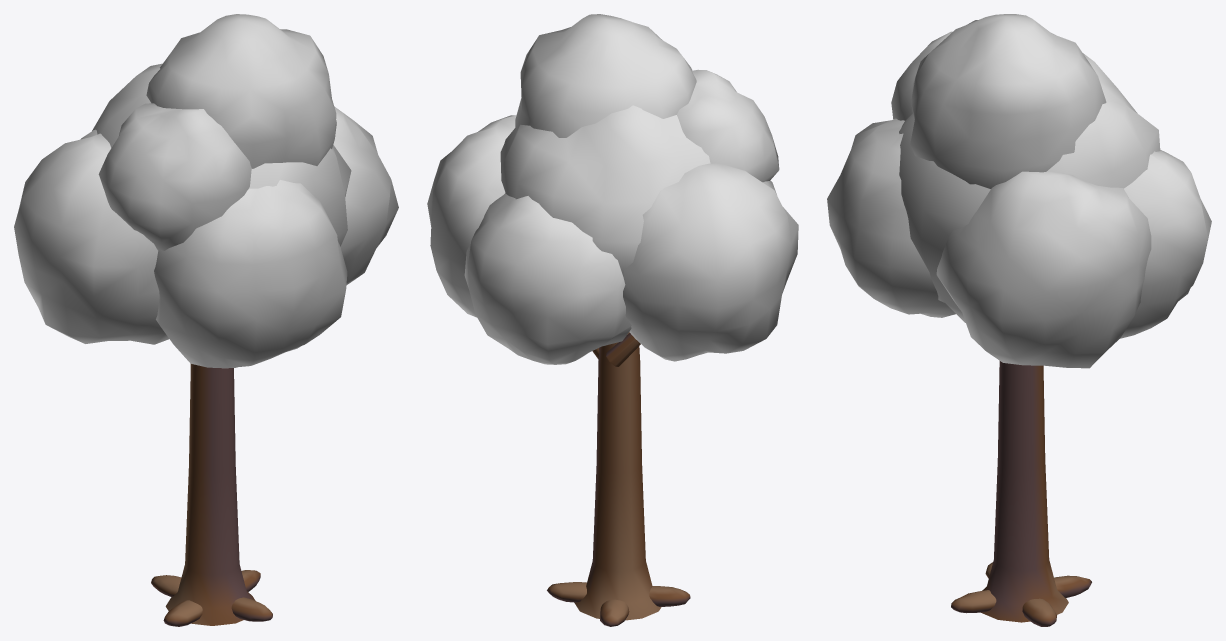
File: RoundTree.fbx
3 renders of one model, left to right at view 1: azimuth 30°, elevation 25°; view 2: azimuth 150°, elevation 25°; view 3: azimuth 270°, elevation 25°, orthographic. The views are drawn at different scales.
Visible parts, largest first — view 1: SM_Veg_RoundTree_Canopy, SM_Veg_RoundTree_Trunk; view 2: SM_Veg_RoundTree_Canopy, SM_Veg_RoundTree_Trunk; view 3: SM_Veg_RoundTree_Canopy, SM_Veg_RoundTree_Trunk.
Part boxes in pixels (bbox=[...]): SM_Veg_RoundTree_Canopy: bbox=[14, 14, 398, 368]; SM_Veg_RoundTree_Trunk: bbox=[151, 364, 272, 626]; SM_Veg_RoundTree_Canopy: bbox=[427, 14, 798, 364]; SM_Veg_RoundTree_Trunk: bbox=[547, 332, 690, 626]; SM_Veg_RoundTree_Canopy: bbox=[827, 14, 1211, 368]; SM_Veg_RoundTree_Trunk: bbox=[951, 361, 1091, 626].
Size of the model in its own units: 10.38 by 16.66 by 9.73.
